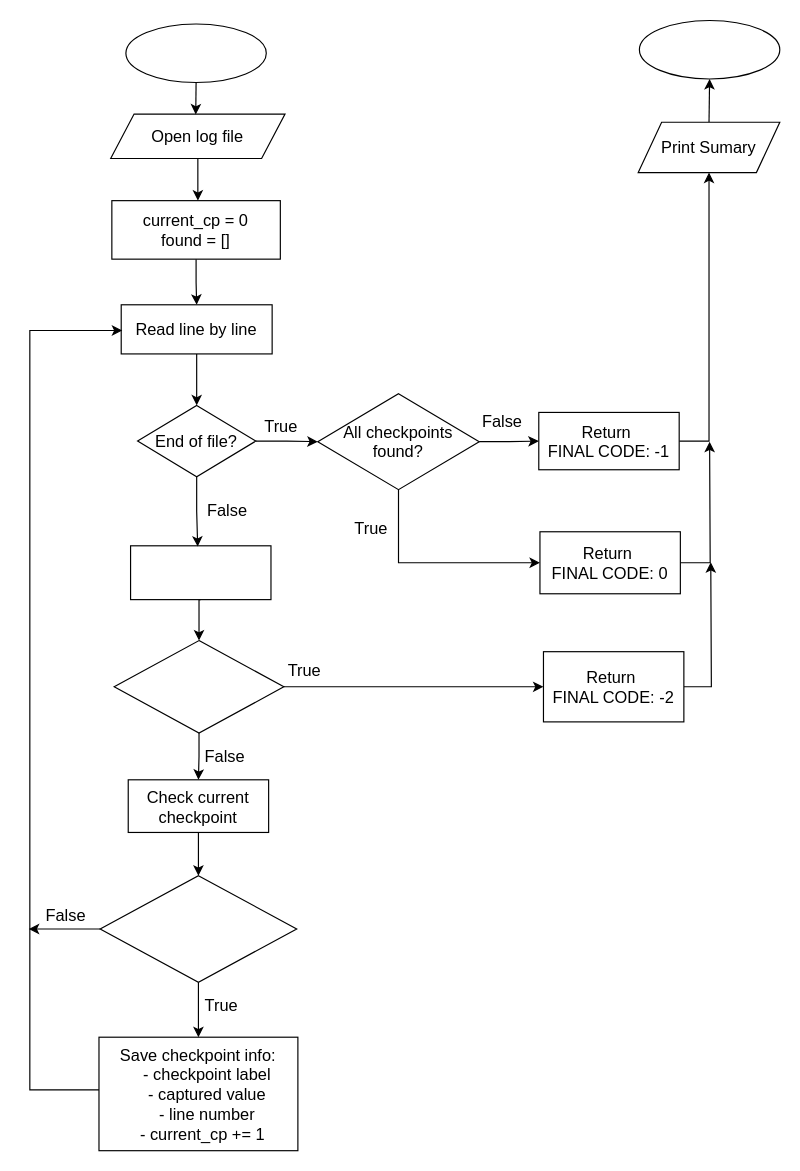
Image size: 800x1171. Some labels were removed from this diagram. Each missing label, with the box of its shape:
Check error in current line: (129, 545, 271, 600)
Contains boot error text?: (113, 639, 284, 733)
END: (638, 19, 780, 79)
Line matches CHECKPOINTS[i]?: (99, 875, 297, 982)
START: (125, 23, 266, 82)
